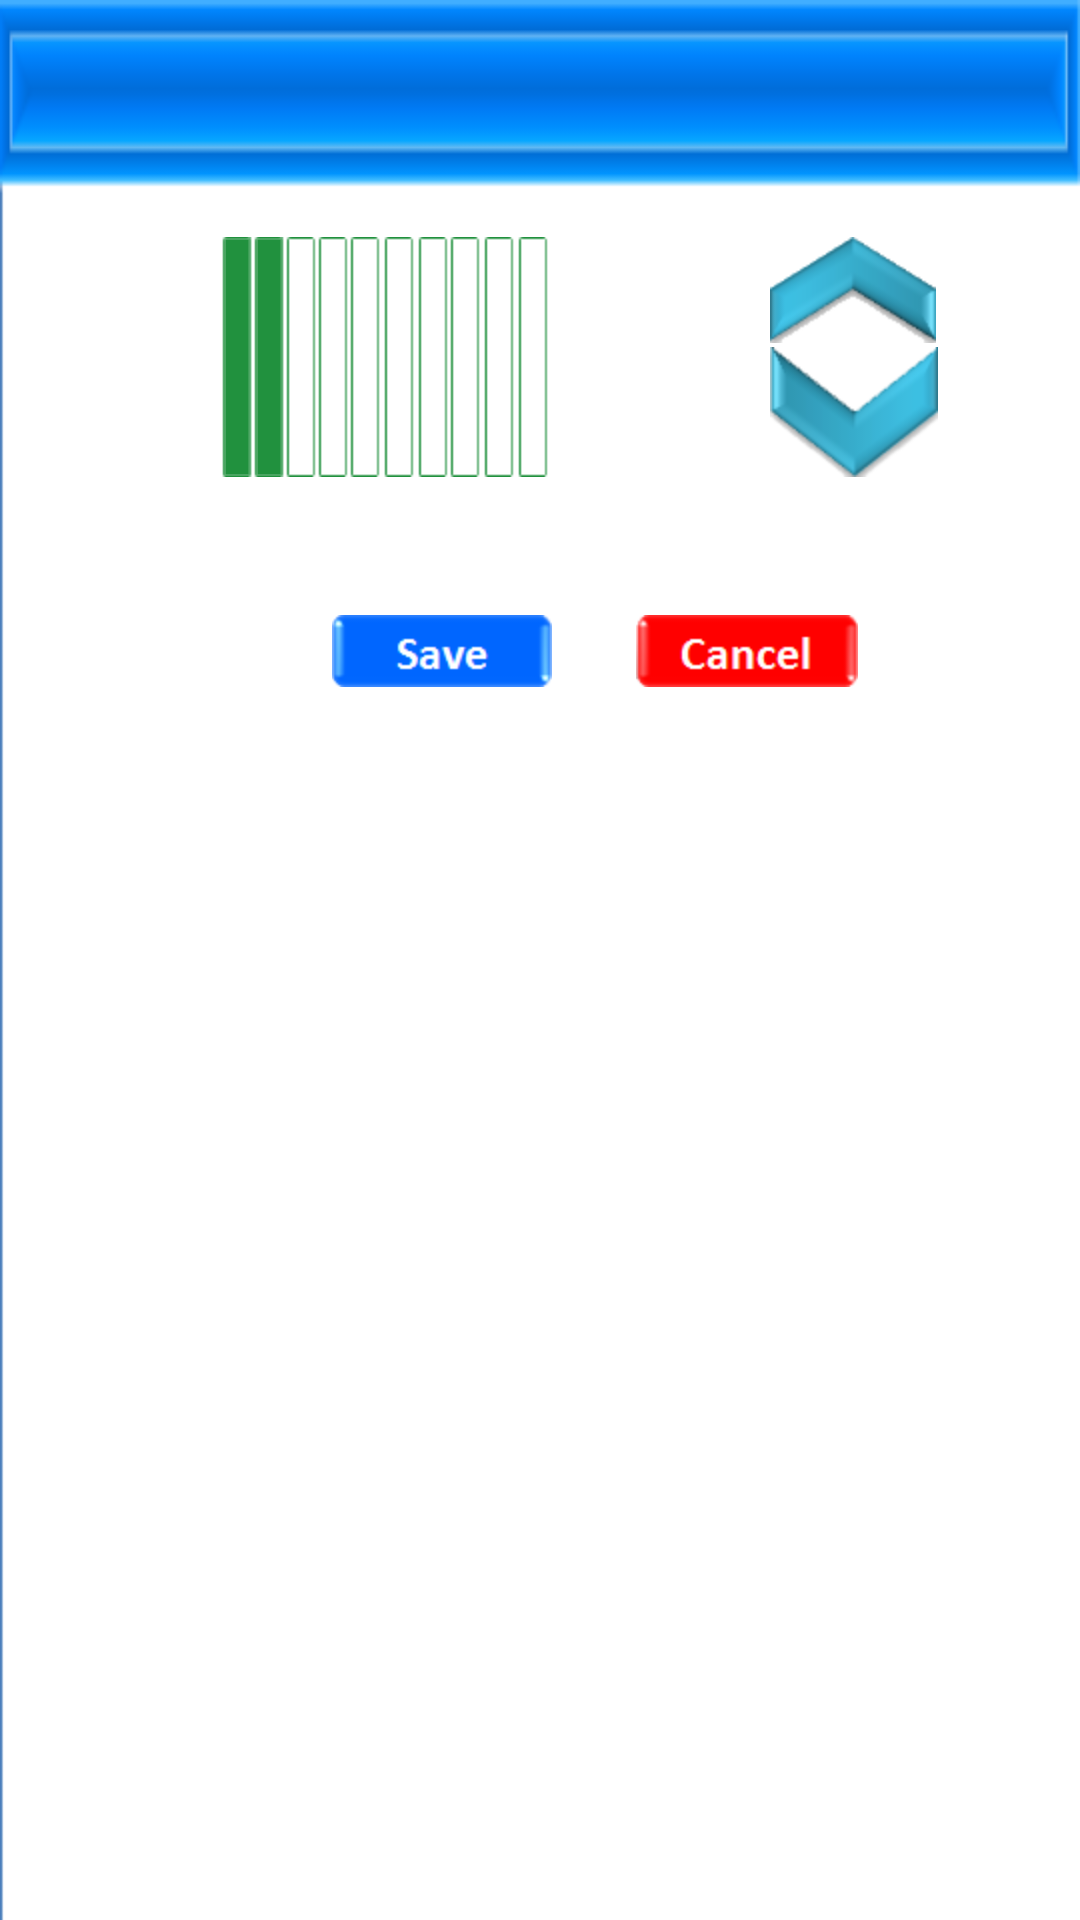

Screen size 1080 × 1920. Icon name, then its center in pixels as [x,y]:
volumeadjust decreasebutton: [854,412]
volumeadjust increasebutton: [853,290]
